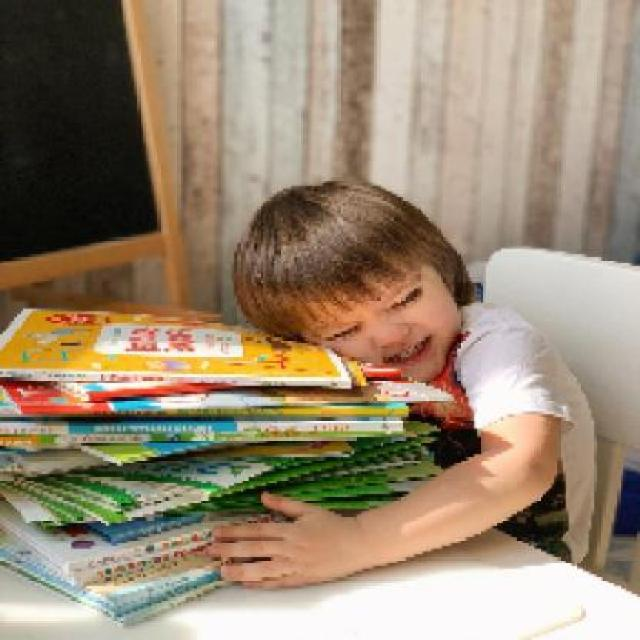child: (202, 177, 598, 592)
